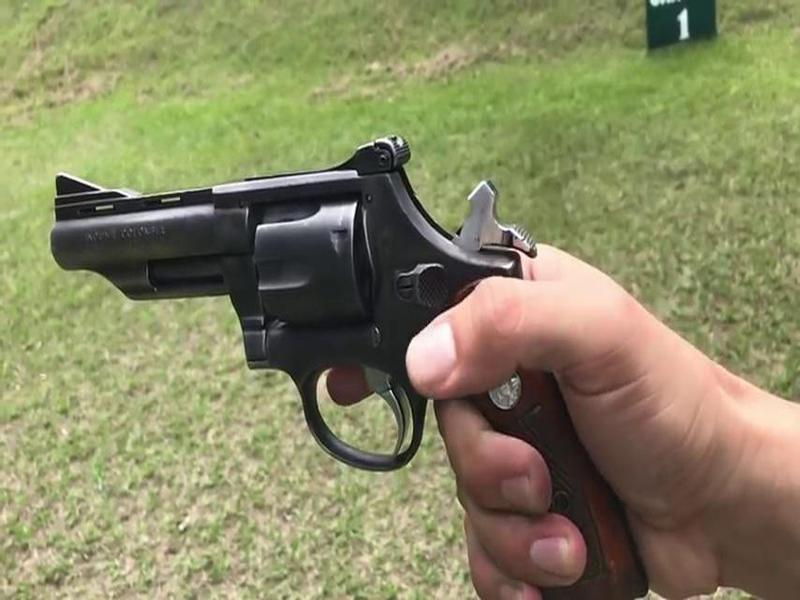Revolver: (43, 133, 567, 511)
